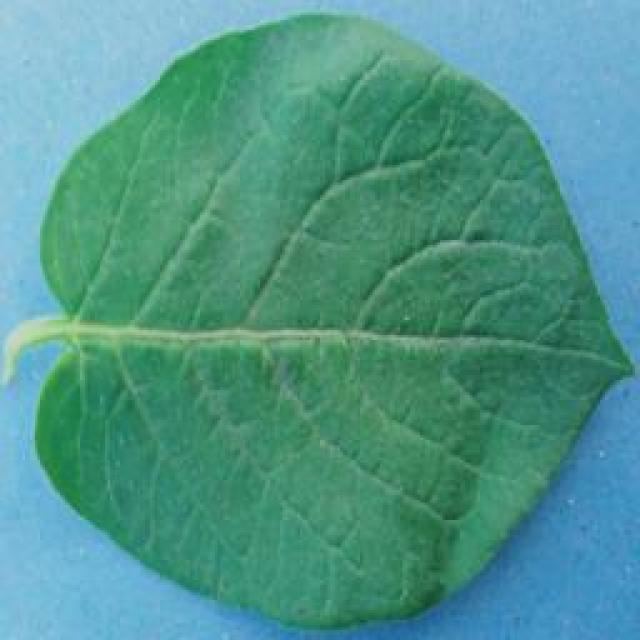Potato_Healthy: (6, 2, 637, 632)
